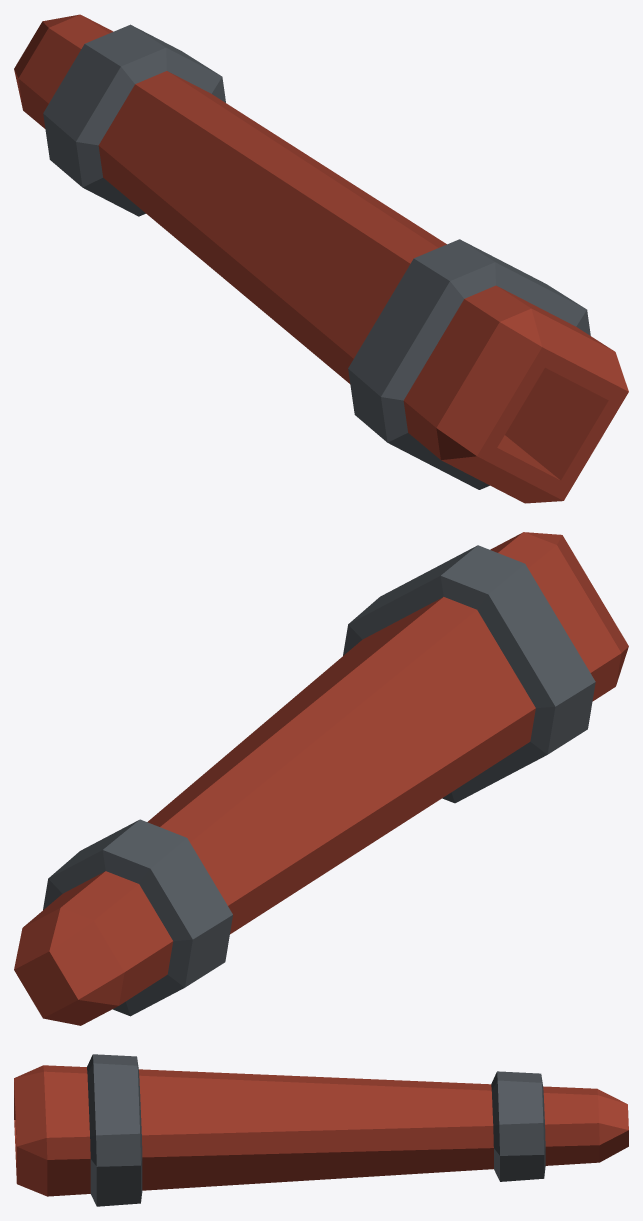
File: Fighter_02_Breather_Red.fbx
3 renders of one model, top to bottom at view 1: azimuth 30°, elevation 25°; view 2: azimuth 150°, elevation 25°; view 3: azimuth 270°, elevation 25°, orthographic. The views are drawn at different scales.
Parts seen in each view (by area): view 1: Fighter_02_Breather_Red; view 2: Fighter_02_Breather_Red; view 3: Fighter_02_Breather_Red.
Boxes of the visible parts, <box> form: Fighter_02_Breather_Red: <box>14,14,628,503</box>; Fighter_02_Breather_Red: <box>14,532,628,1025</box>; Fighter_02_Breather_Red: <box>14,1054,628,1206</box>.
Size of the model in its own units: 32.38 by 32.41 by 130.
1 material, 1 textured.
